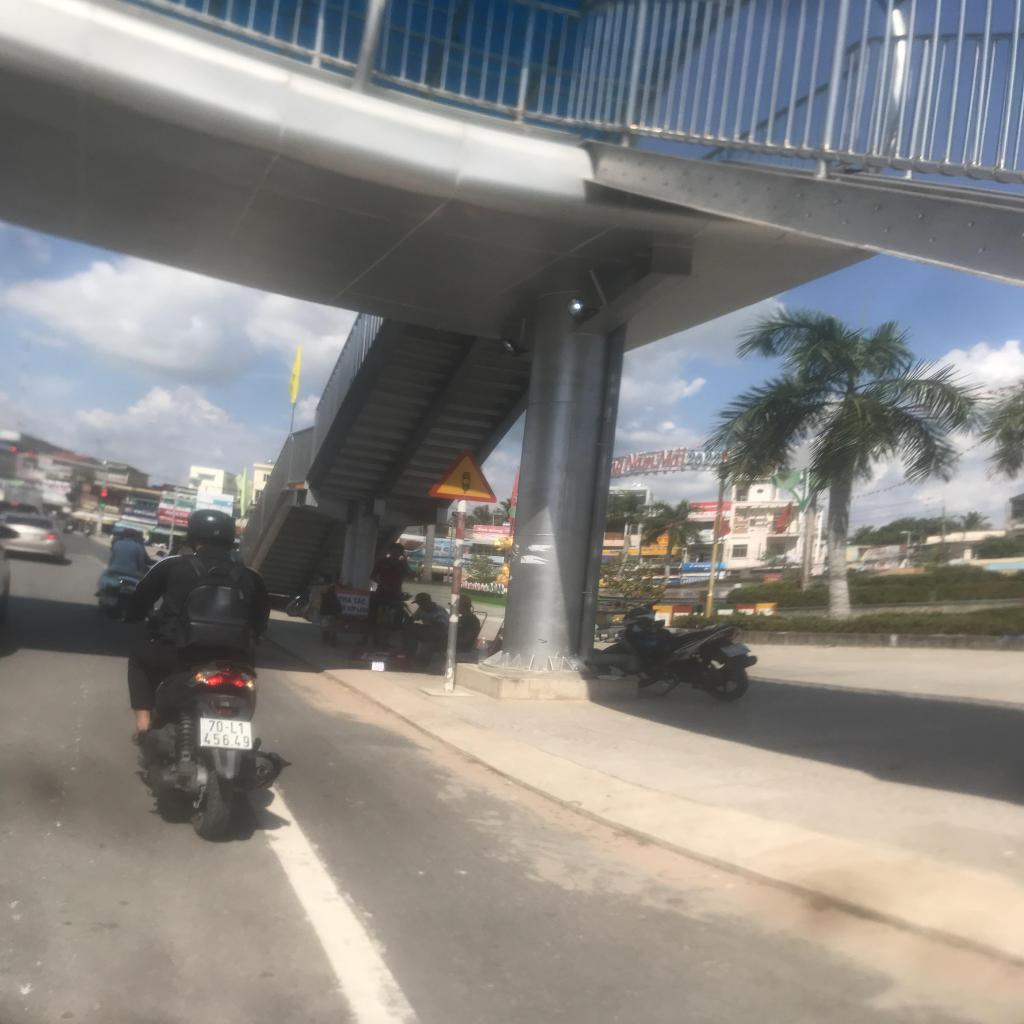giao_nhau_co_tin_hieu_den: (426, 445, 502, 504)
